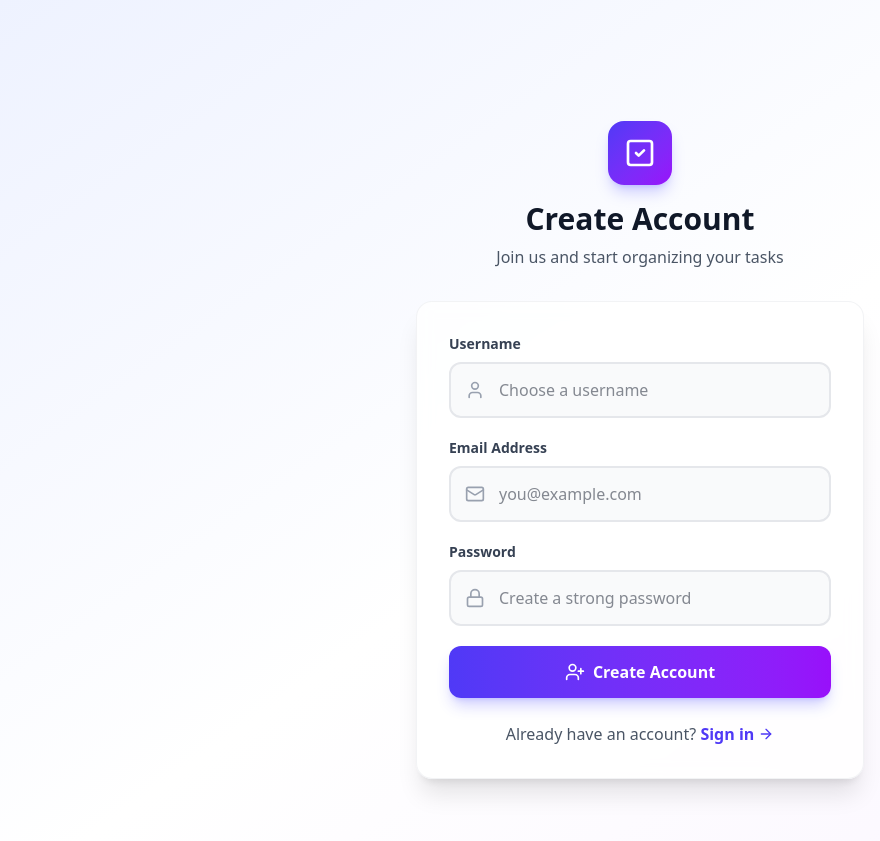
Test: SignUp Component › should show validation error for username too short
The width and height of the screenshot is (880, 841).
Type "ab" into the field with placeholder "Choose a username" at (640, 390), box [449,362,831,418]
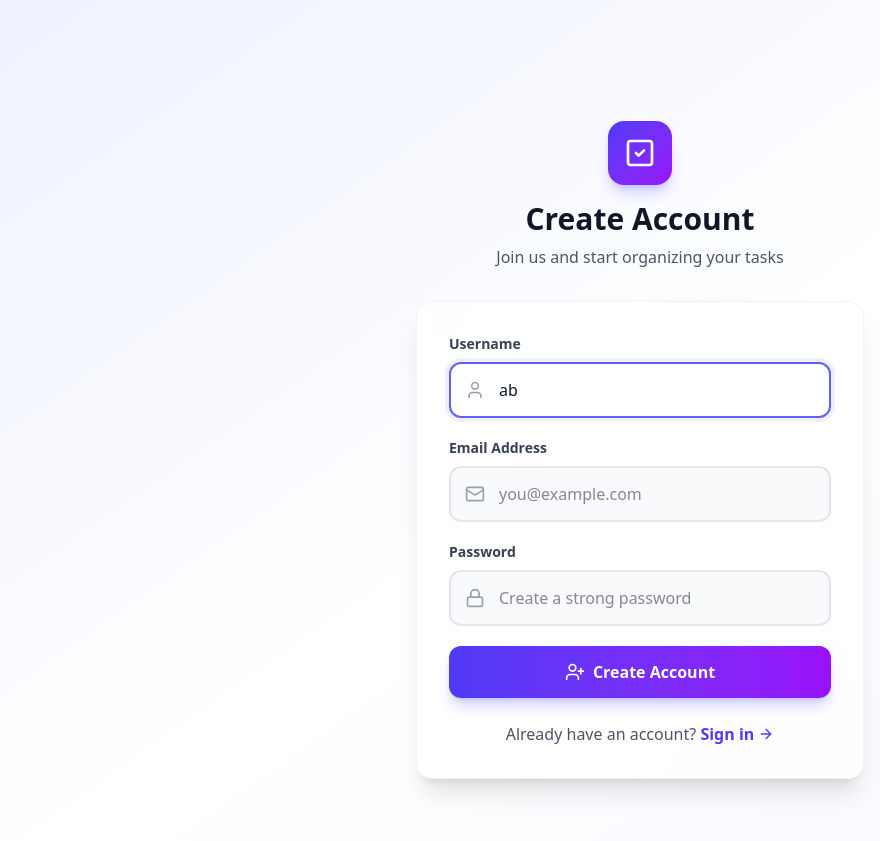
Click the button "Create Account" at (640, 672), box [449,646,831,698]
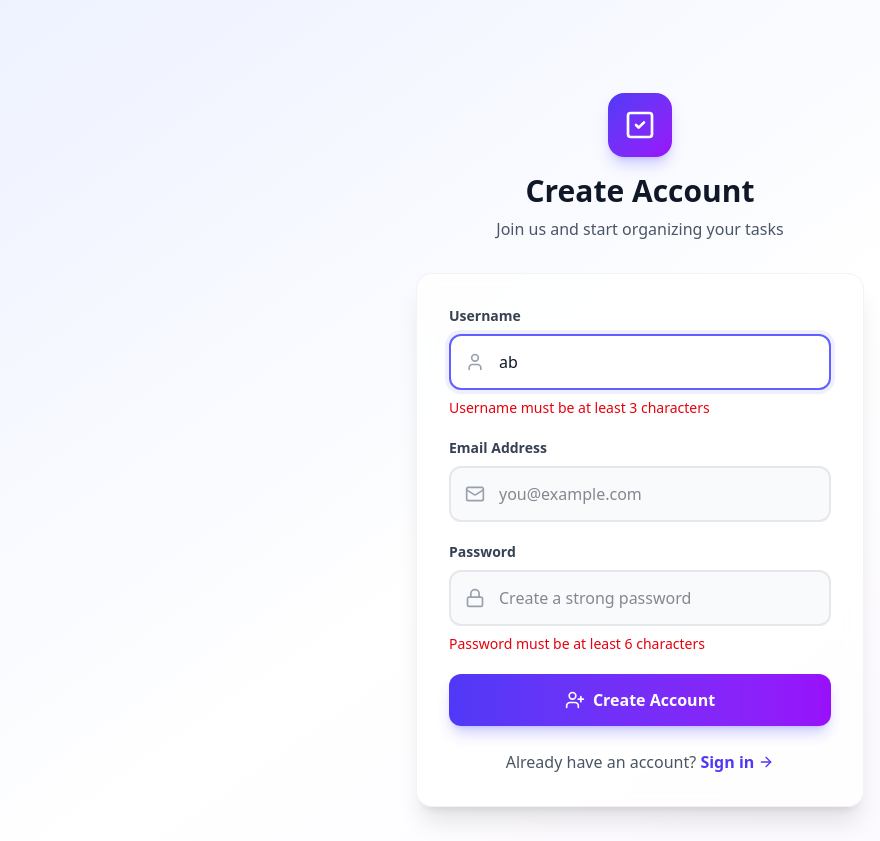
Expected: the text "Username must be at least 3 characters" is shown, [449,398,710,417]
